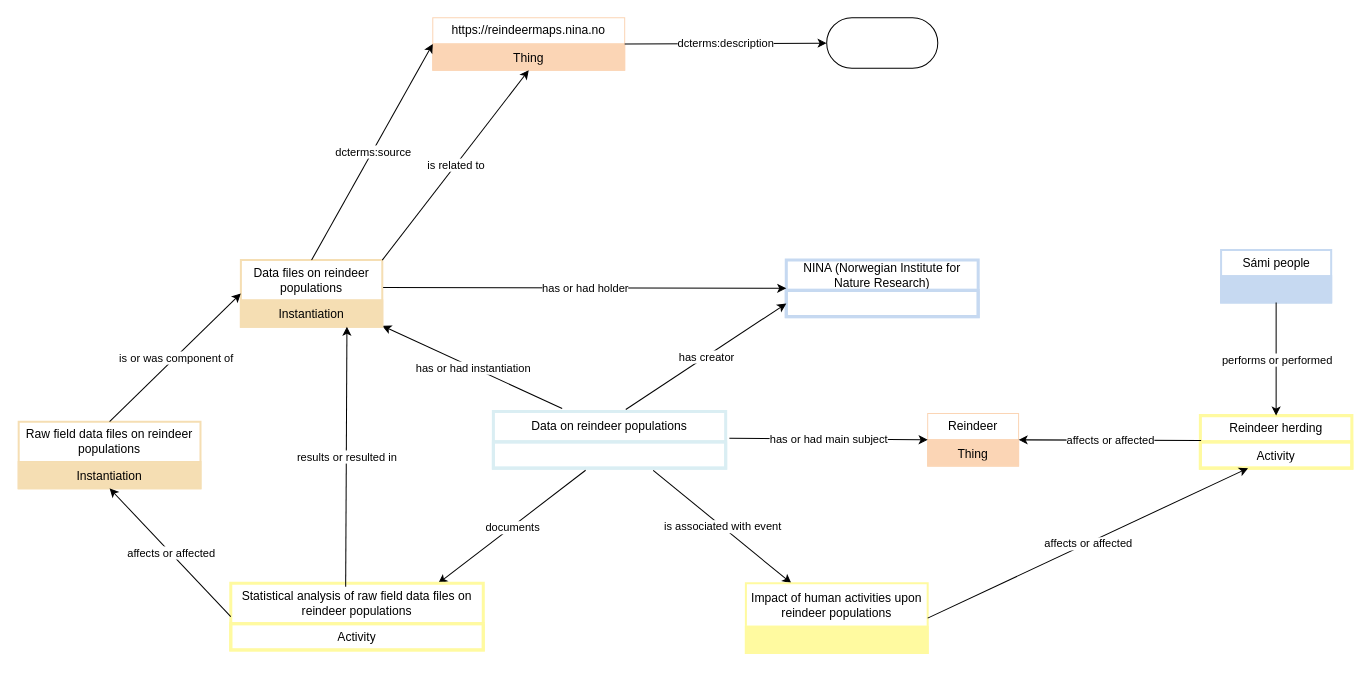
The diagram is 1371 pixels wide and 674 high, and some of its shapes have lost their labels. Here are the shapes that lost their labels. From the top down, the centre of each, then its label:
(x=882, y=42): Website of reindeer maps
(x=881, y=303): Corporate Body
(x=1276, y=289): Group
(x=609, y=454): Record Set
(x=836, y=639): Event
